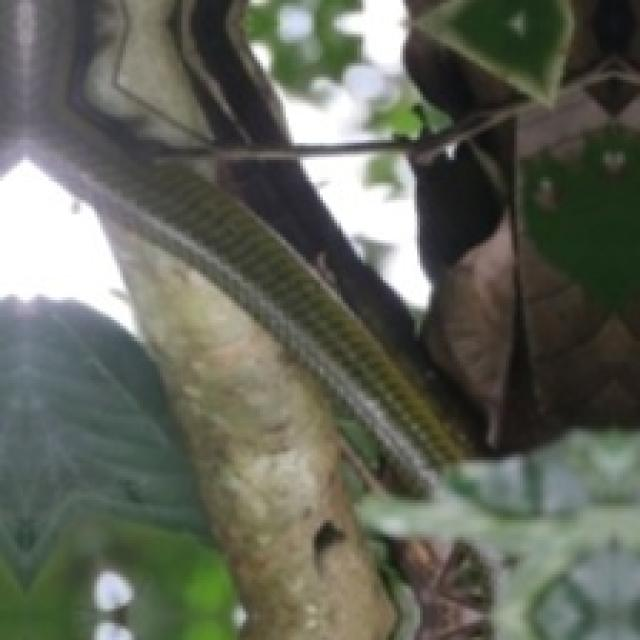red-tailed green ratsnake: (0, 0, 461, 489)
